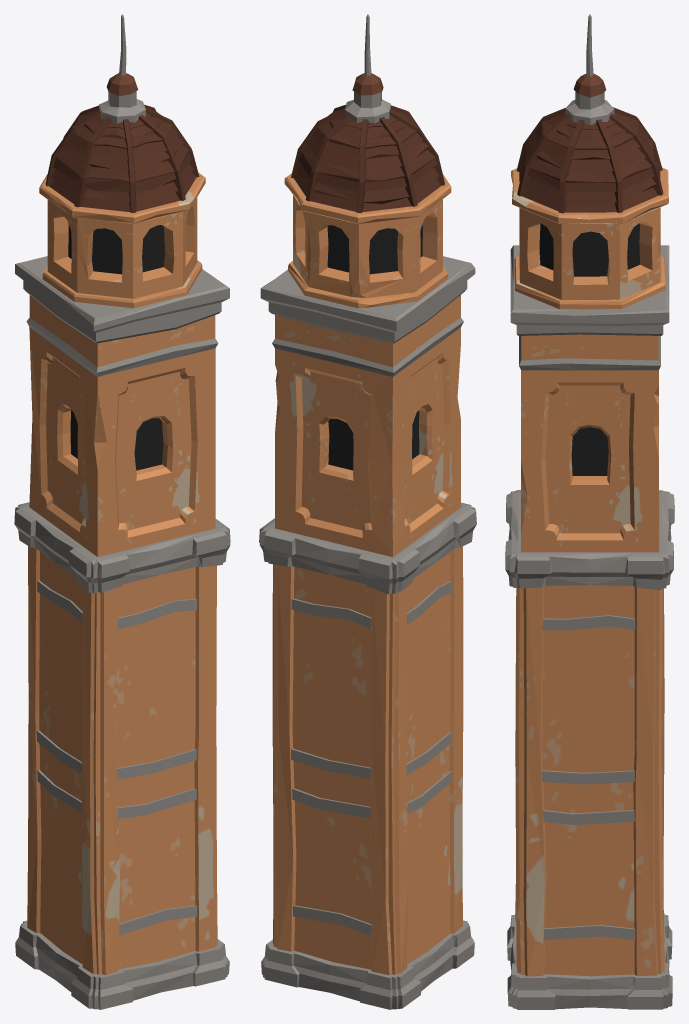
The model's file is SM_Bld_Cuba_Hall_Tower_01.glb.
3 renders of one model, left to right at view 1: azimuth 30°, elevation 25°; view 2: azimuth 150°, elevation 25°; view 3: azimuth 270°, elevation 25°, orthographic.
Visible parts, largest first — view 1: SM_Bld_Cuba_Hall_Tower_01_part00; view 2: SM_Bld_Cuba_Hall_Tower_01_part00; view 3: SM_Bld_Cuba_Hall_Tower_01_part00.
Boxes of the visible parts, <box> form: SM_Bld_Cuba_Hall_Tower_01_part00: <box>14,14,230,1009</box>; SM_Bld_Cuba_Hall_Tower_01_part00: <box>259,14,476,1009</box>; SM_Bld_Cuba_Hall_Tower_01_part00: <box>505,14,674,1009</box>.
Size of the model in its own units: 2.99 by 18.76 by 2.99.
Materials: 1 (1 with a texture image).
